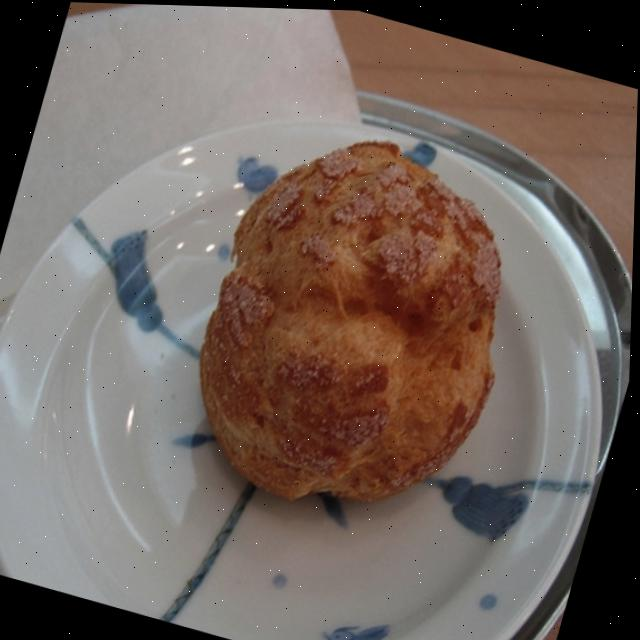炸货点心: (115, 20, 619, 608)
蛋糕甜品: (115, 20, 619, 608)
